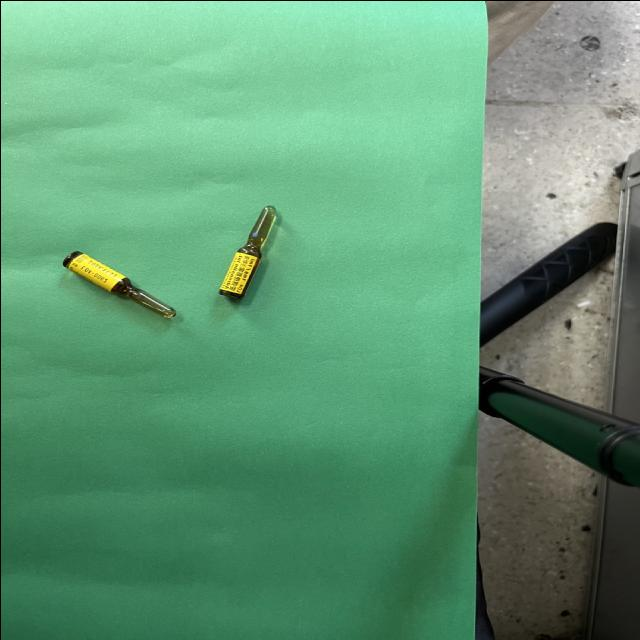Ampoules: (61, 250, 175, 318), (217, 205, 276, 298)
